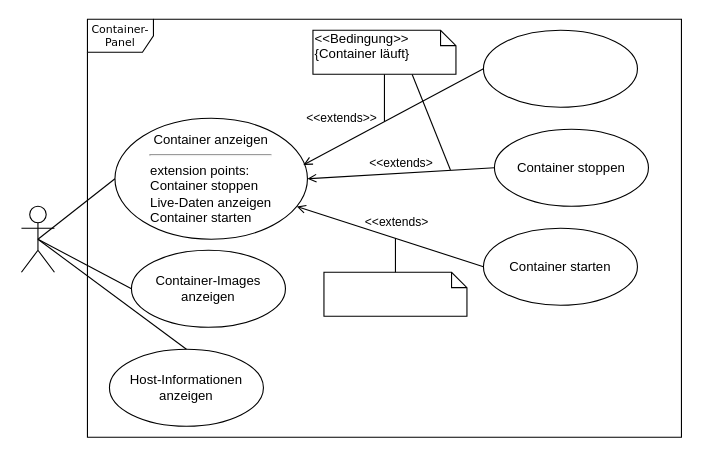
This 701x457 diagram has some shape labels left out. The shapes that lost their labels are listed below. From the top down, each one's centre as x and y in pixels, then its label:
point 559,68: Live-Daten anzeigen
point 37,238: Nutzer
point 395,293: <<Bedingung>> {Container läuft nicht}
